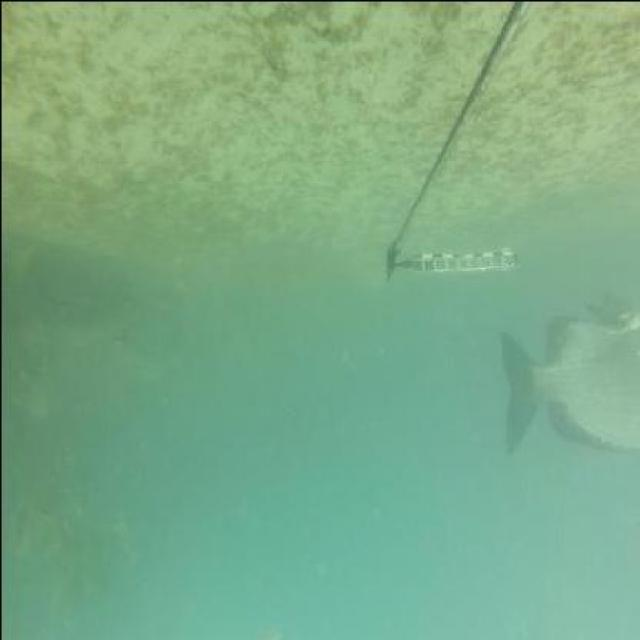acanthopagrus_palmaris: (494, 294, 640, 460)
